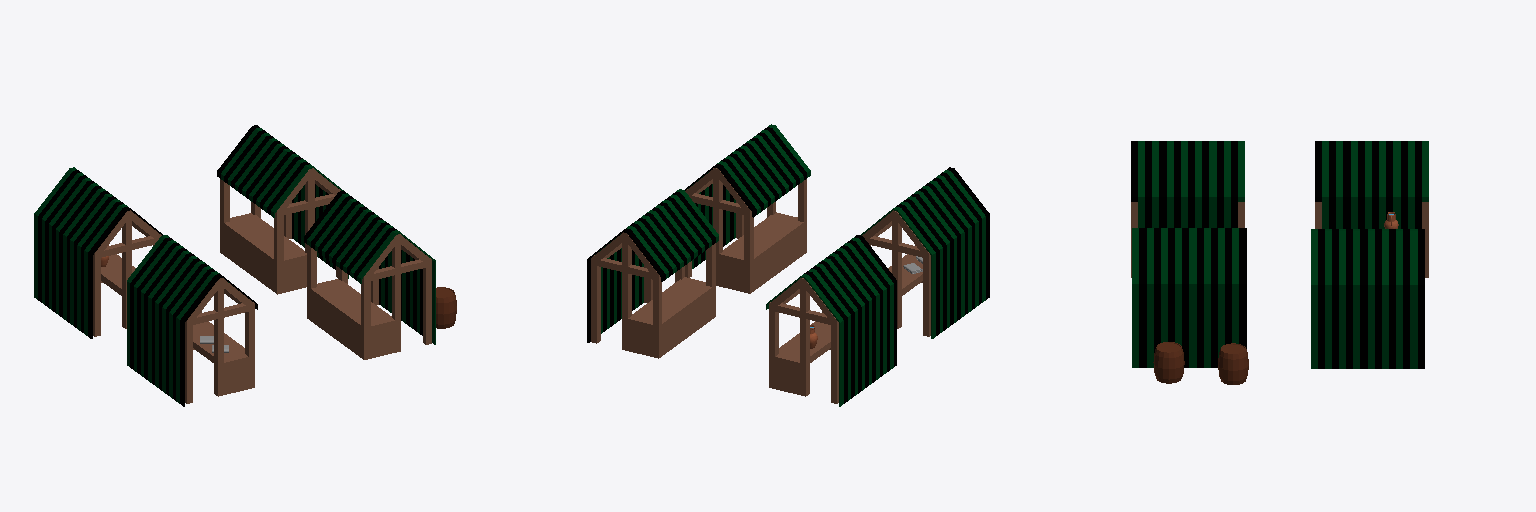
Rendered from market_black_green.obj.
3 renders of one model, left to right at view 1: azimuth 30°, elevation 25°; view 2: azimuth 150°, elevation 25°; view 3: azimuth 270°, elevation 25°, orthographic.
Parts seen in each view (by area): view 1: Cube.060_Cube.235, Cube.156_Cube.225, Cube.052_Cube.004, Cube.056_Cube.178, Cube.147_Cube.153, Cube.001_Cube.064, Barrel1.001; view 2: Cube.156_Cube.225, Cube.060_Cube.235, Cube.056_Cube.178, Cube.052_Cube.004, Cube.001_Cube.064, Cube.147_Cube.153, Cube.025_Cube.001, Cube.057_Cube.179; view 3: Cube.156_Cube.225, Cube.060_Cube.235, Cube.001_Cube.064, Cube.147_Cube.153, Barrel1.001, Barrel1.
Part boxes in pixels (x1,y1,x2,y2): Cube.060_Cube.235: (127,235,257,406); Cube.156_Cube.225: (34,167,162,338); Cube.052_Cube.004: (309,234,431,359); Cube.056_Cube.178: (222,168,340,294); Cube.147_Cube.153: (379,250,435,344); Cube.001_Cube.064: (292,184,348,278); Barrel1.001: (436,287,456,328); Cube.156_Cube.225: (766,235,896,406); Cube.060_Cube.235: (861,167,989,338); Cube.056_Cube.178: (591,232,715,356); Cube.052_Cube.004: (685,168,806,292); Cube.001_Cube.064: (587,248,643,342); Cube.147_Cube.153: (692,184,735,268); Cube.025_Cube.001: (744,210,753,293); Cube.057_Cube.179: (653,275,661,358); Cube.156_Cube.225: (1315,141,1428,277); Cube.060_Cube.235: (1131,141,1244,277); Cube.001_Cube.064: (1311,285,1424,368); Cube.147_Cube.153: (1132,284,1246,367); Barrel1.001: (1153,342,1184,383); Barrel1: (1218,343,1248,384).
Bounding box in the file's own units: 9.51 × 3.73 × 8.36.